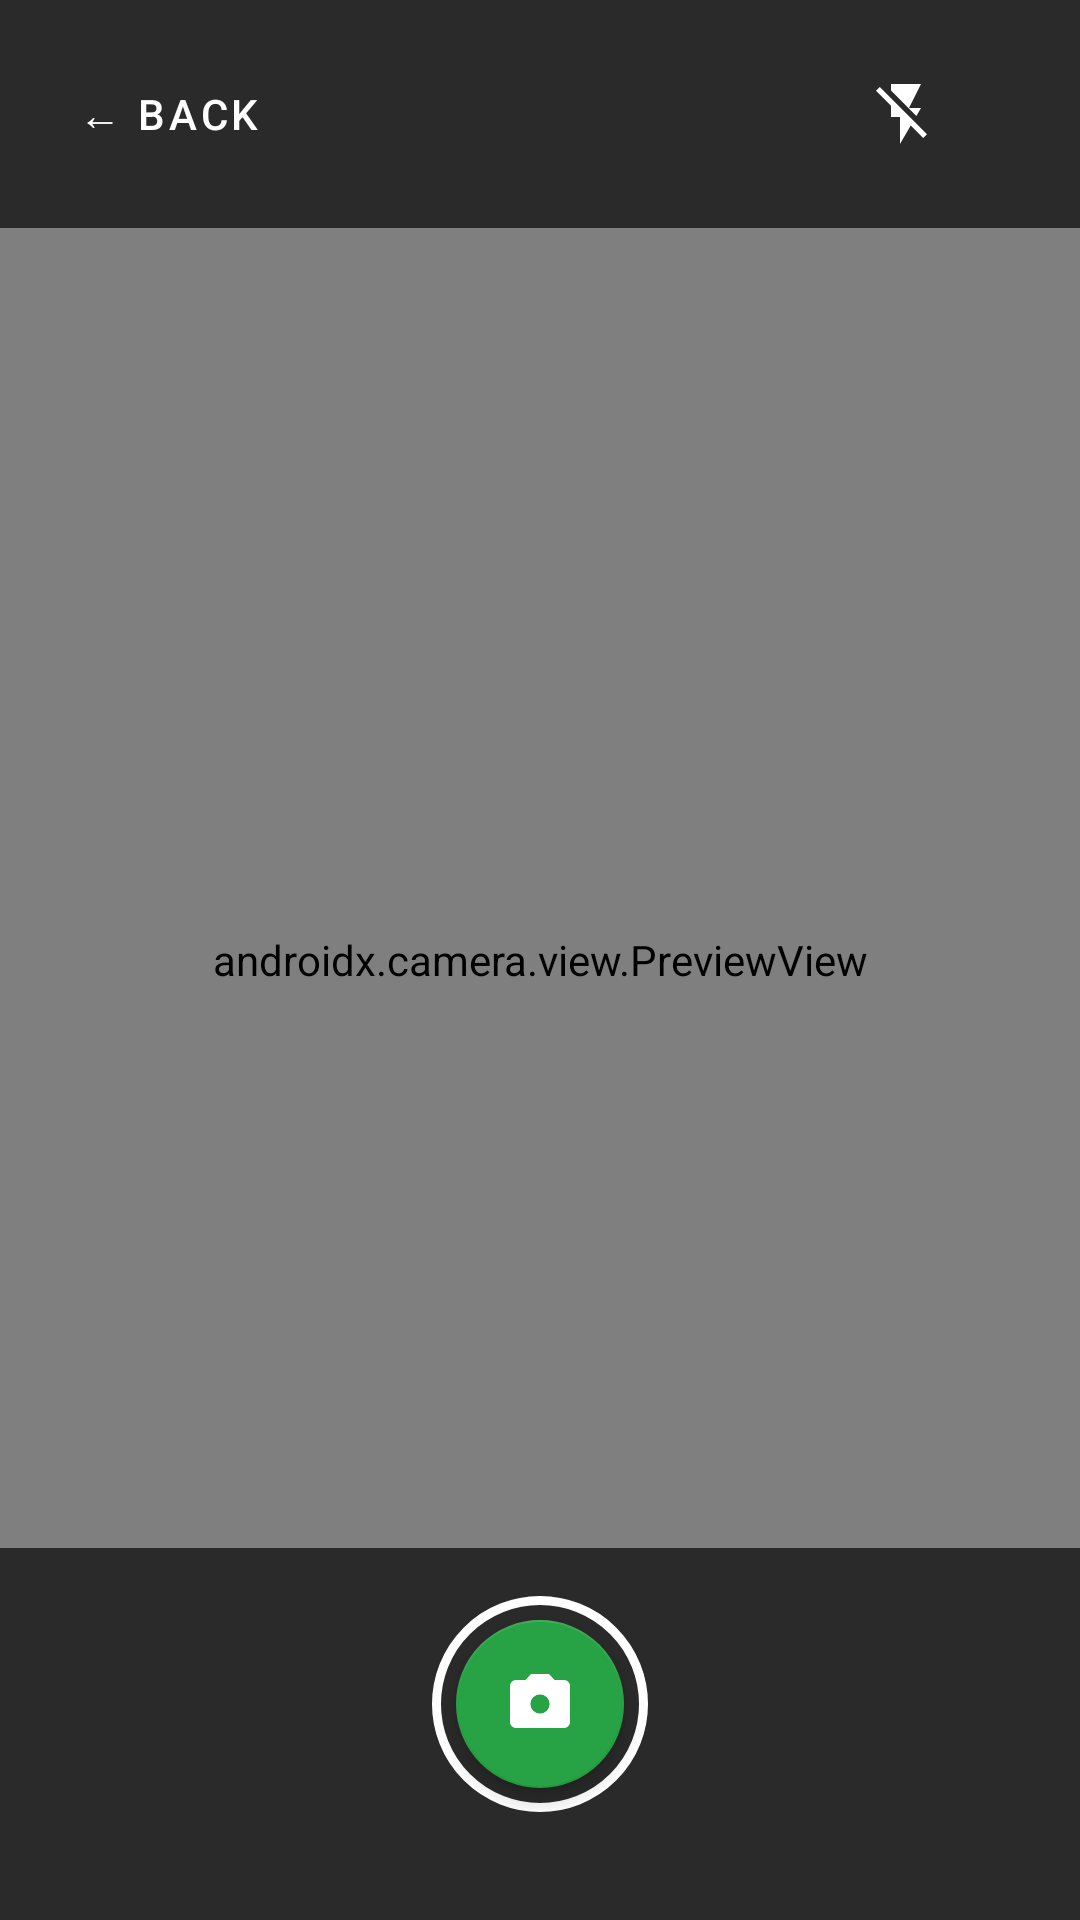

Screen size 1080w x 1920h. Icon name, then its box in pixels as (x1, y1, x2, y2):
flash off: (876, 84, 927, 144)
